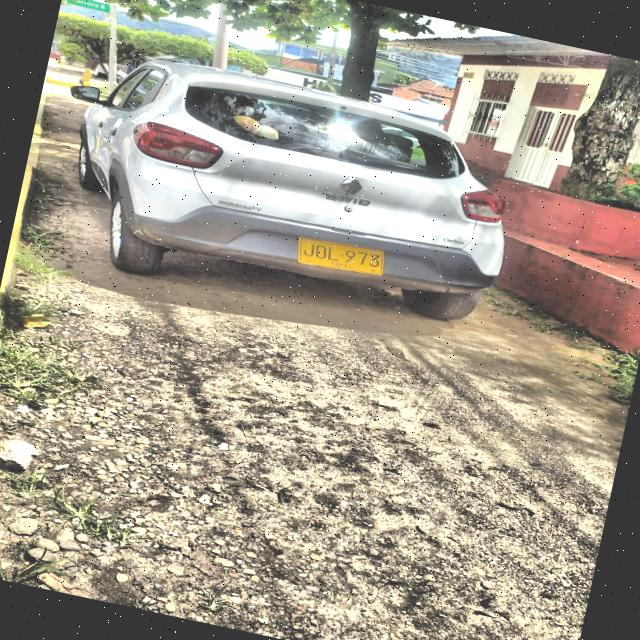3: (366, 252, 380, 268)
7: (354, 250, 368, 266)
9: (342, 249, 356, 264)
J: (302, 242, 315, 258)
L: (326, 246, 339, 262)
O: (313, 244, 327, 260)
